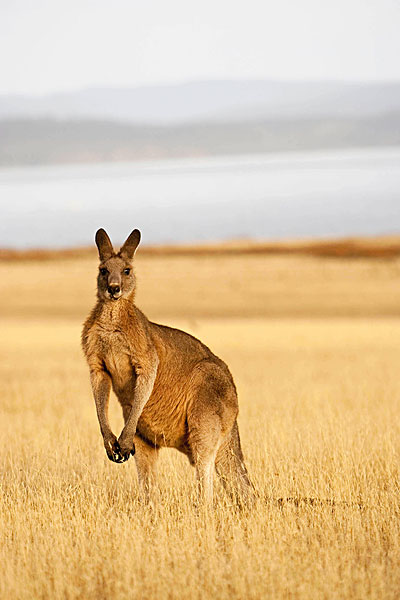kangaroo: (74, 224, 363, 526)
